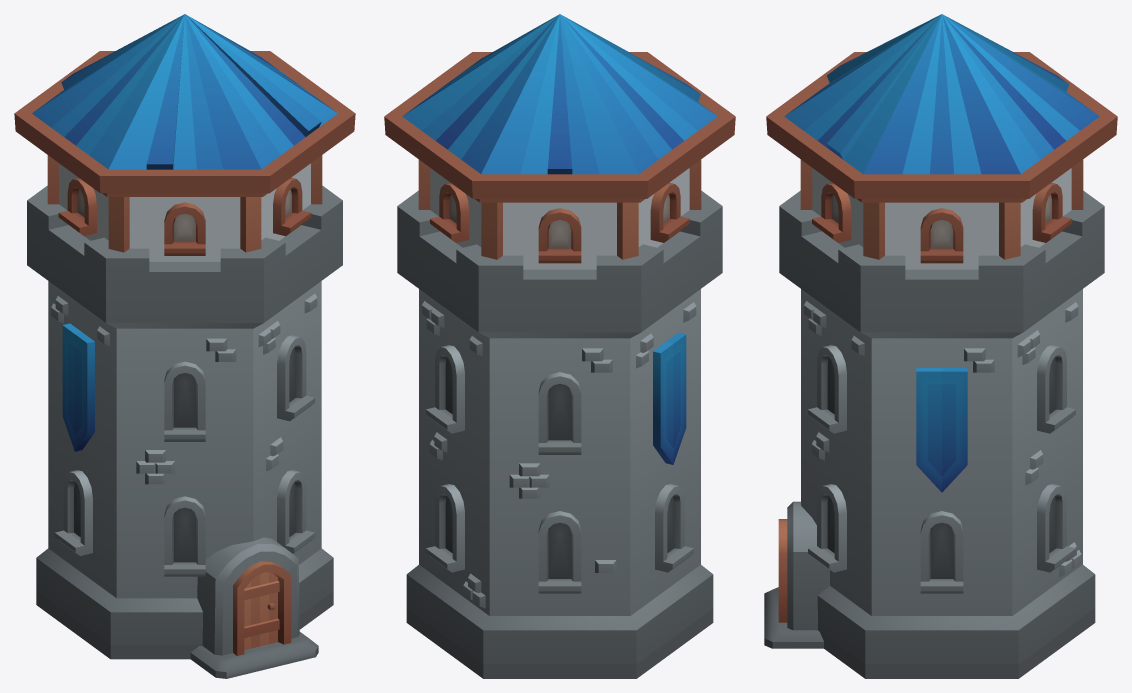
Rendered from building_tower_A_blue.glb.
3 views of the same model, side by side, from view 1: azimuth 30°, elevation 25°; view 2: azimuth 150°, elevation 25°; view 3: azimuth 270°, elevation 25° (orthographic). The views are drawn at different scales.
Visible parts, largest first — view 1: building_tower_A_blue, building_tower_A_top_blue; view 2: building_tower_A_blue, building_tower_A_top_blue; view 3: building_tower_A_blue, building_tower_A_top_blue.
Boxes of the visible parts, x1,y1,x2,y2 form: building_tower_A_blue: (27, 185, 342, 678); building_tower_A_top_blue: (14, 14, 355, 261); building_tower_A_blue: (397, 190, 722, 678); building_tower_A_top_blue: (384, 14, 735, 269); building_tower_A_blue: (764, 190, 1104, 678); building_tower_A_top_blue: (766, 14, 1117, 269).
Size of the model in its own units: 0.9933 by 2.19 by 1.15.
Materials: 1 (1 with a texture image).
